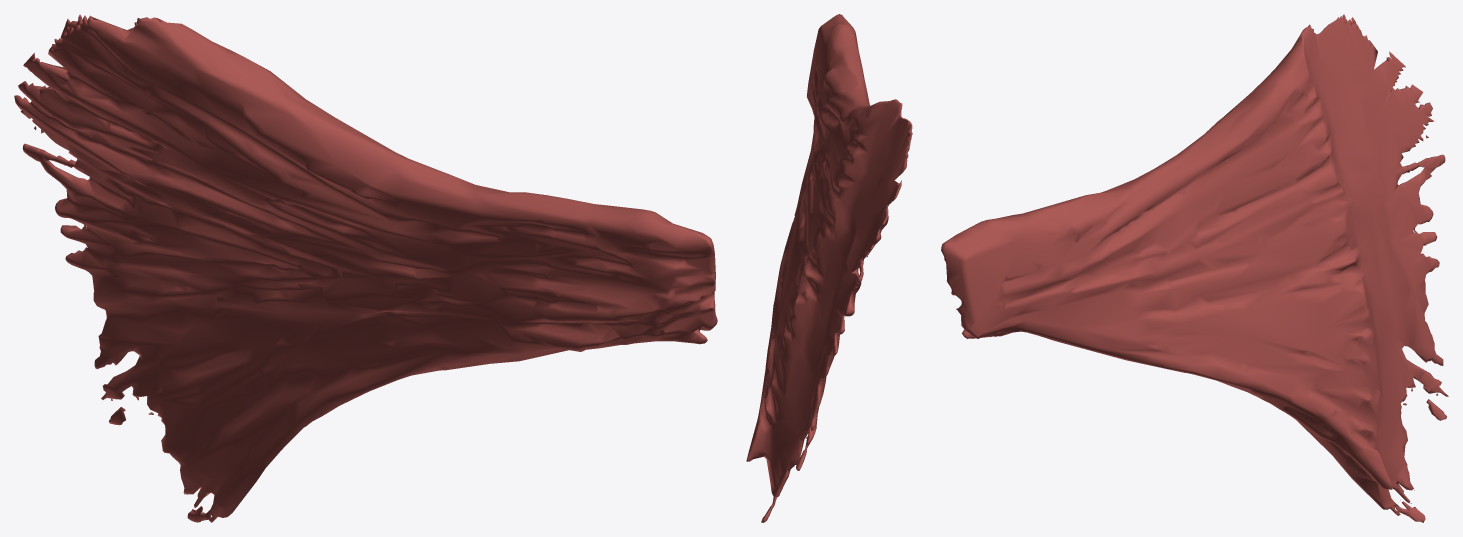
File: FMA46839.glb
The picture shows the model from 3 angles, left to right: view 1: azimuth 30°, elevation 25°; view 2: azimuth 150°, elevation 25°; view 3: azimuth 270°, elevation 25°; orthographic projection. The views are drawn at different scales.
Visible parts, largest first — view 1: FMA46839; view 2: FMA46839; view 3: FMA46839.
Boxes of the visible parts, bbox=[...] form: FMA46839: bbox=[14, 14, 717, 522]; FMA46839: bbox=[746, 14, 912, 522]; FMA46839: bbox=[941, 14, 1448, 522].
Size of the model in its own units: 0.0191 by 0.0263 by 0.0269.
